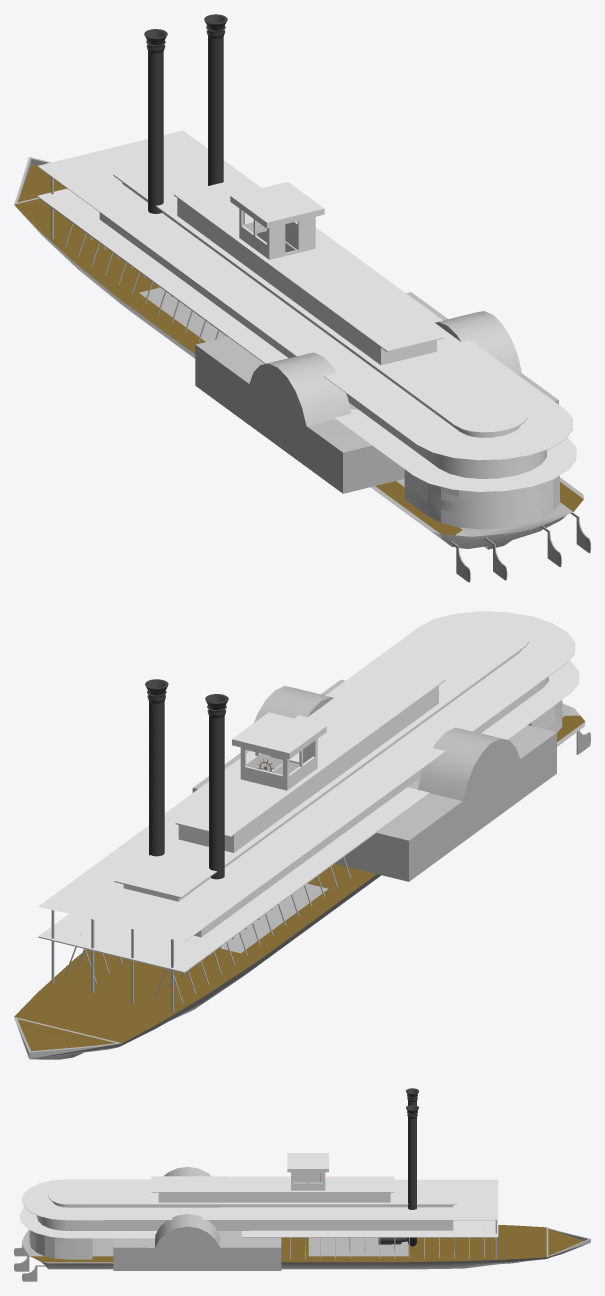
File: riverboat-02.2.fbx
3 views of the same model, one above another, from view 1: azimuth 30°, elevation 25°; view 2: azimuth 150°, elevation 25°; view 3: azimuth 270°, elevation 25° (orthographic). The views are drawn at different scales.
Parts seen in each view (by area): view 1: riverboat_02_obj_1; view 2: riverboat_02_obj_1; view 3: riverboat_02_obj_1.
Part boxes in pixels (x1=…): riverboat_02_obj_1: x1=14, y1=14, x2=590, y2=582; riverboat_02_obj_1: x1=14, y1=611, x2=590, y2=1059; riverboat_02_obj_1: x1=14, y1=1088, x2=590, y2=1281.
Bounding box in the file's own units: 238 × 310 × 968.
